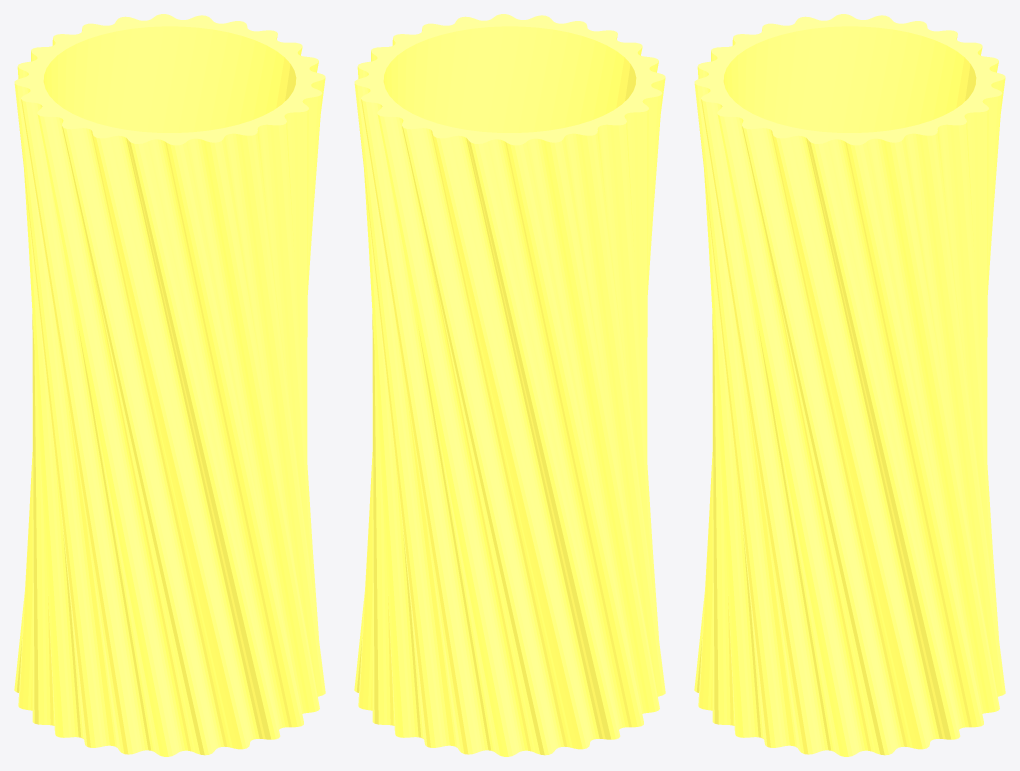
The model's file is Rigatoni-wrapped.gltf.
3 renders of one model, left to right at view 1: azimuth 30°, elevation 25°; view 2: azimuth 150°, elevation 25°; view 3: azimuth 270°, elevation 25°, orthographic.
Parts seen in each view (by area): view 1: Rigatoni-wrapped; view 2: Rigatoni-wrapped; view 3: Rigatoni-wrapped.
Part boxes in pixels (left/top/right/bottom): Rigatoni-wrapped: left=14, top=14, right=325, bottom=756; Rigatoni-wrapped: left=354, top=14, right=665, bottom=756; Rigatoni-wrapped: left=694, top=14, right=1005, bottom=756.
Size of the model in its own units: 1.31 by 2.84 by 1.31.
